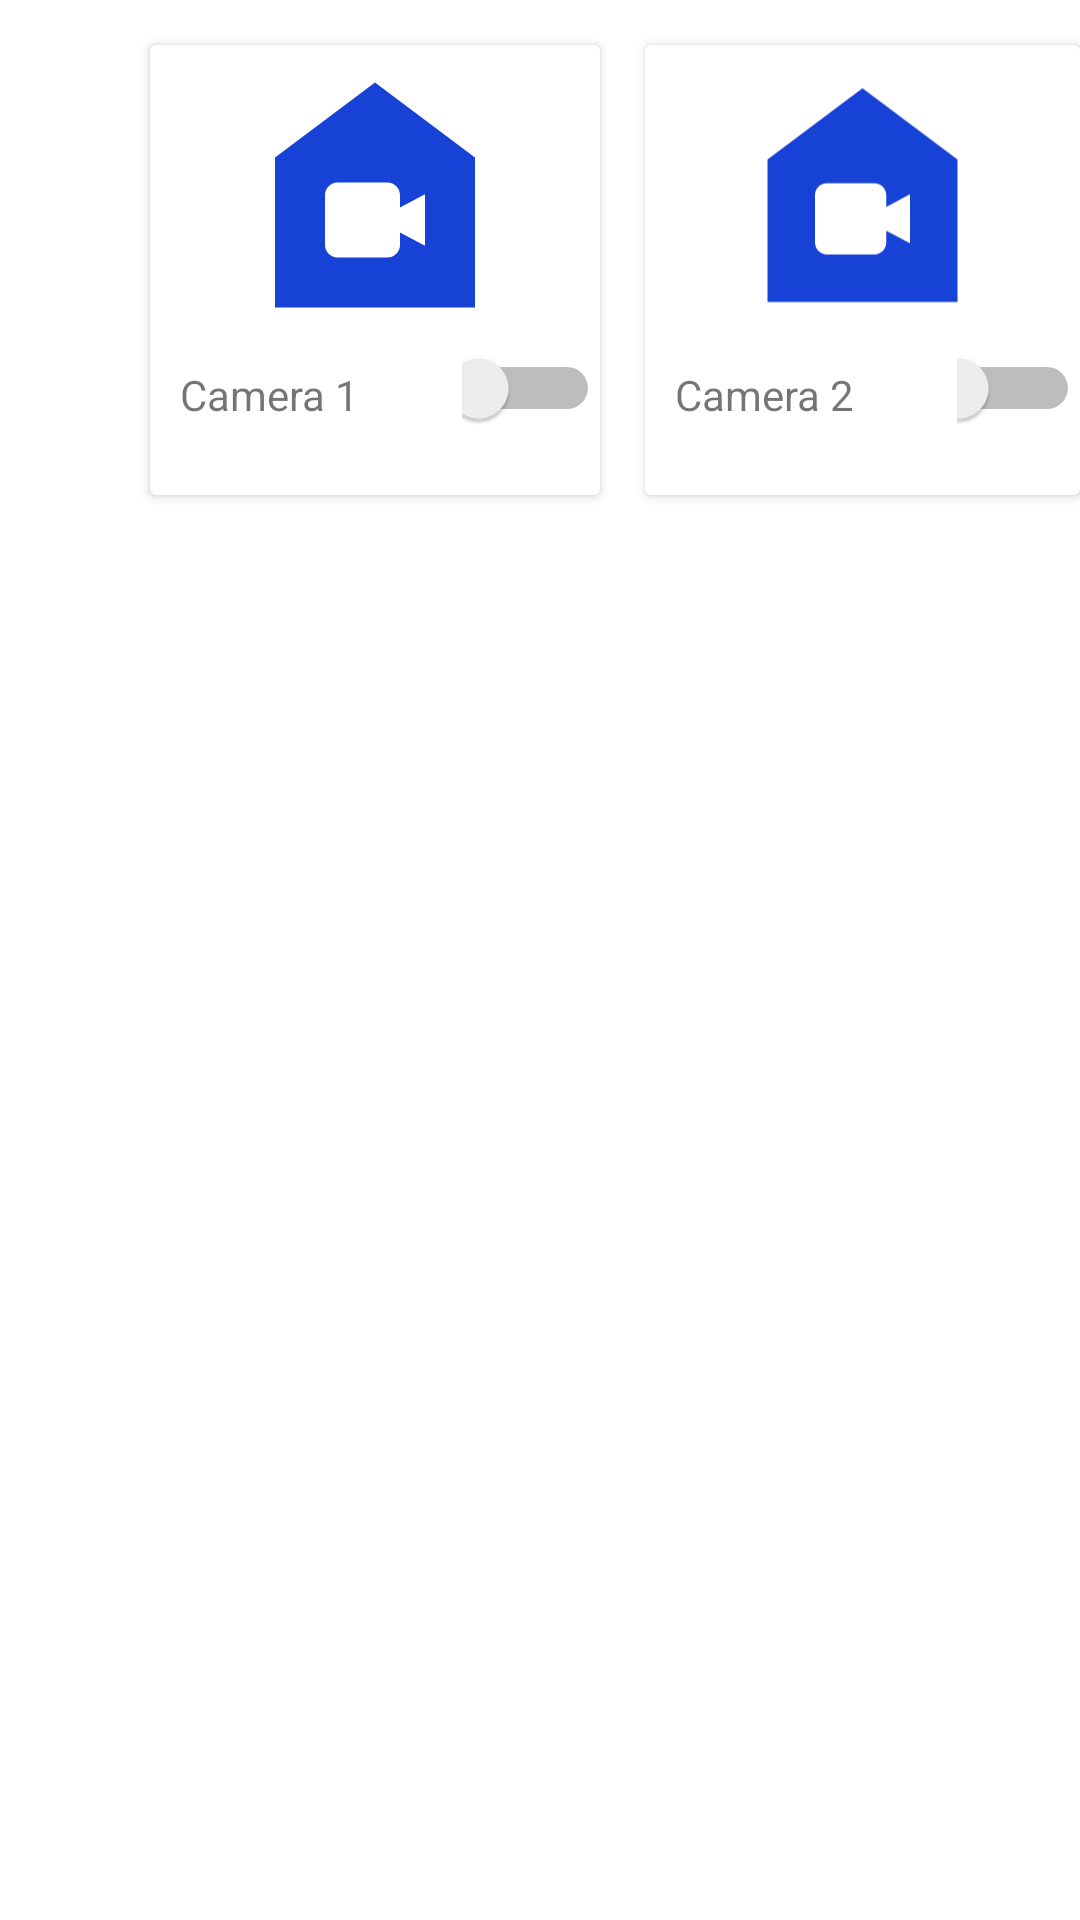

Screen size 1080w x 1920h. Icon name, then its box in pixels as (x1, y1, x2, y2):
camera indoor: (275, 82, 475, 308), (767, 88, 958, 303)
